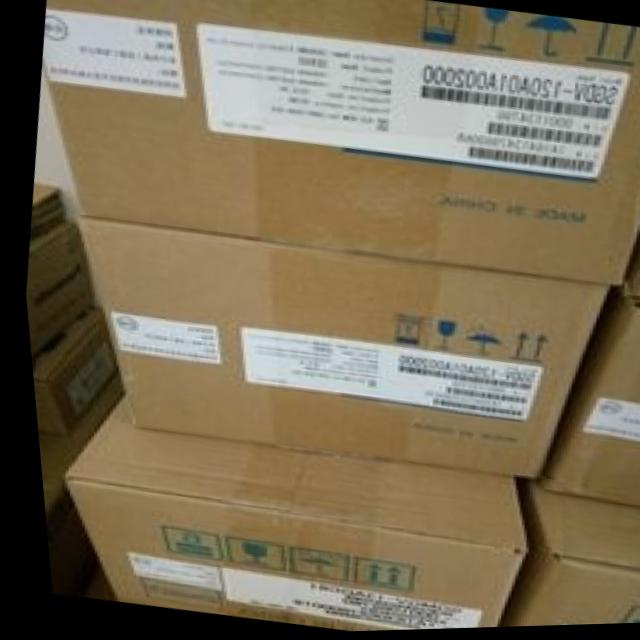box: (42, 0, 640, 285), (75, 210, 603, 478), (52, 391, 515, 632), (524, 280, 640, 514), (486, 476, 640, 630), (30, 366, 114, 597), (25, 304, 111, 434), (22, 217, 94, 362), (28, 179, 61, 241), (619, 229, 640, 303)
